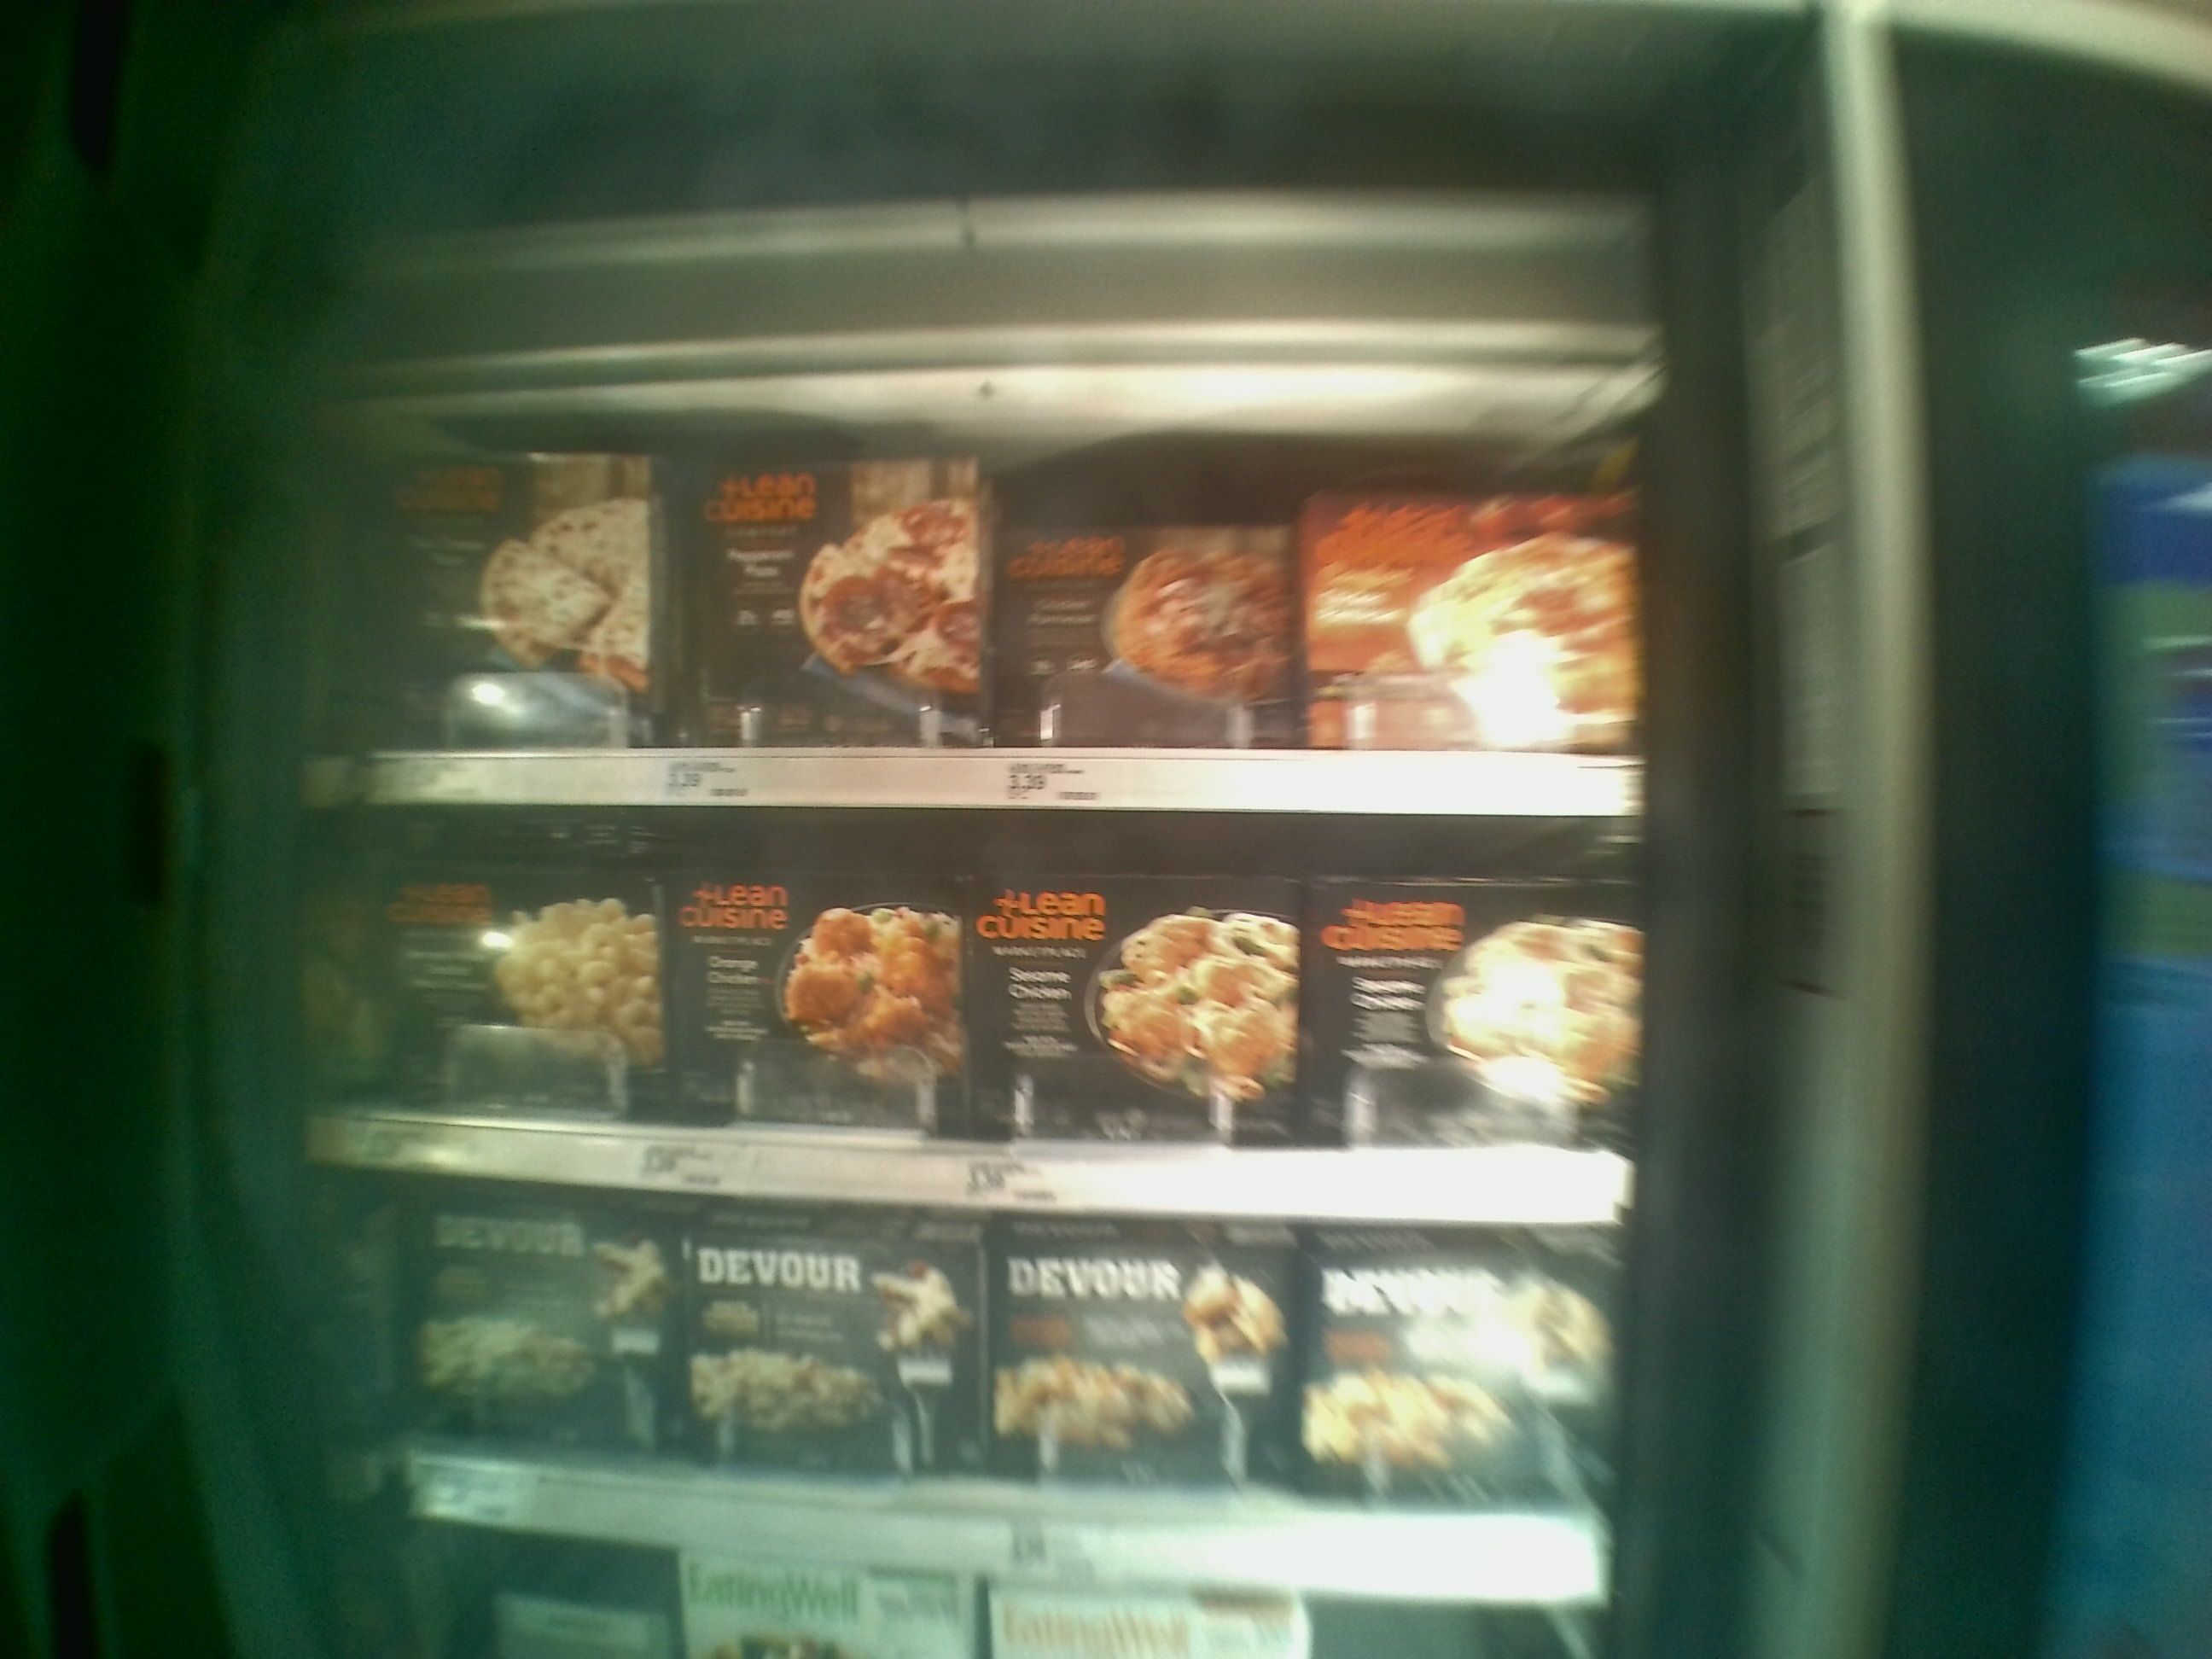shelf: (319, 1161, 1618, 1607), (314, 380, 1642, 805), (336, 809, 1639, 1223)
